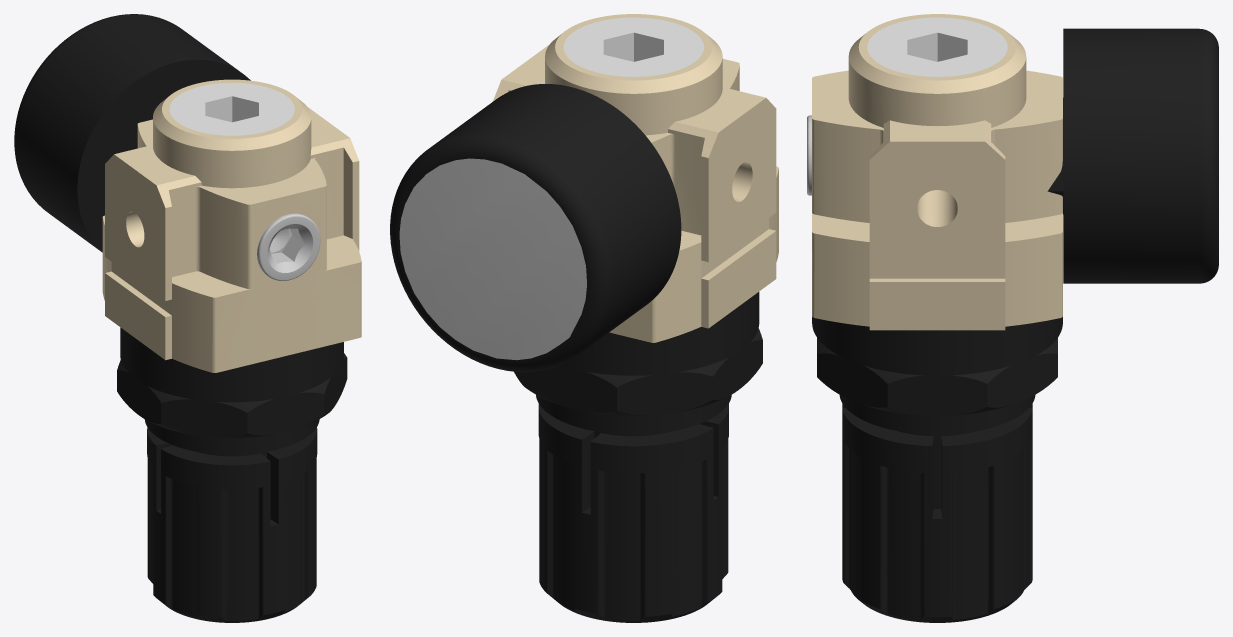
Rendered from Pressure_Regulator.glb.
3 renders of one model, left to right at view 1: azimuth 30°, elevation 25°; view 2: azimuth 150°, elevation 25°; view 3: azimuth 270°, elevation 25°, orthographic. The views are drawn at different scales.
Parts seen in each view (by area): view 1: Pressure Regulator; view 2: Pressure Regulator; view 3: Pressure Regulator.
Boxes of the visible parts, left/top/right/bottom form: Pressure Regulator: left=14, top=14, right=361, bottom=622; Pressure Regulator: left=390, top=14, right=778, bottom=622; Pressure Regulator: left=807, top=14, right=1218, bottom=622.
Bounding box in the file's own units: 0.9999 × 2.37 × 1.62.
